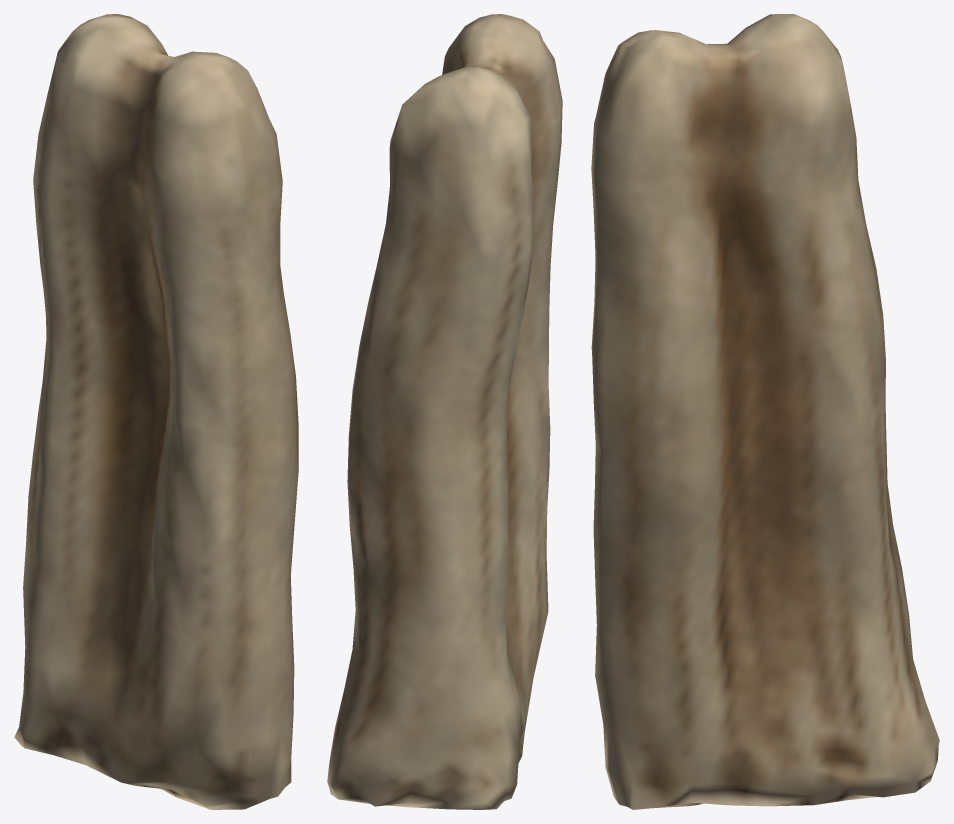
The model's file is Maxilary_Premolar4.glb.
3 views of the same model, side by side, from view 1: azimuth 30°, elevation 25°; view 2: azimuth 150°, elevation 25°; view 3: azimuth 270°, elevation 25° (orthographic). The views are drawn at different scales.
Visible parts, largest first — view 1: Group39766_Mesh.030; view 2: Group39766_Mesh.030; view 3: Group39766_Mesh.030.
Boxes of the visible parts, x1,y1,x2,y2 form: Group39766_Mesh.030: [14, 14, 298, 809]; Group39766_Mesh.030: [327, 14, 562, 809]; Group39766_Mesh.030: [591, 14, 939, 809].
Size of the model in its own units: 0.021 by 0.0776 by 0.032.
1 material, 1 textured.
